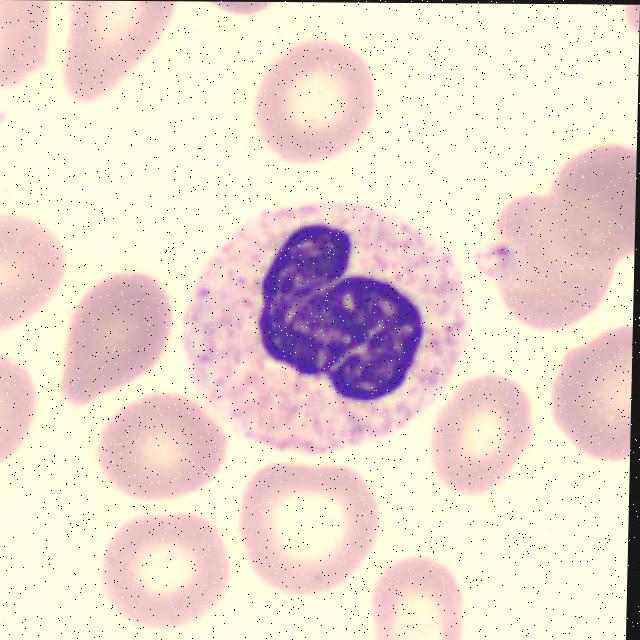neutrophil: (178, 195, 482, 468)
rbc: (232, 33, 398, 170), (86, 381, 240, 510), (241, 454, 389, 588), (56, 263, 182, 412), (491, 188, 621, 330), (92, 514, 240, 631), (422, 367, 549, 502), (530, 318, 633, 471), (532, 128, 637, 270), (50, 1, 185, 102), (359, 533, 486, 640), (0, 194, 68, 339), (0, 342, 44, 479), (0, 0, 57, 102), (198, 1, 287, 20), (609, 5, 640, 56)
